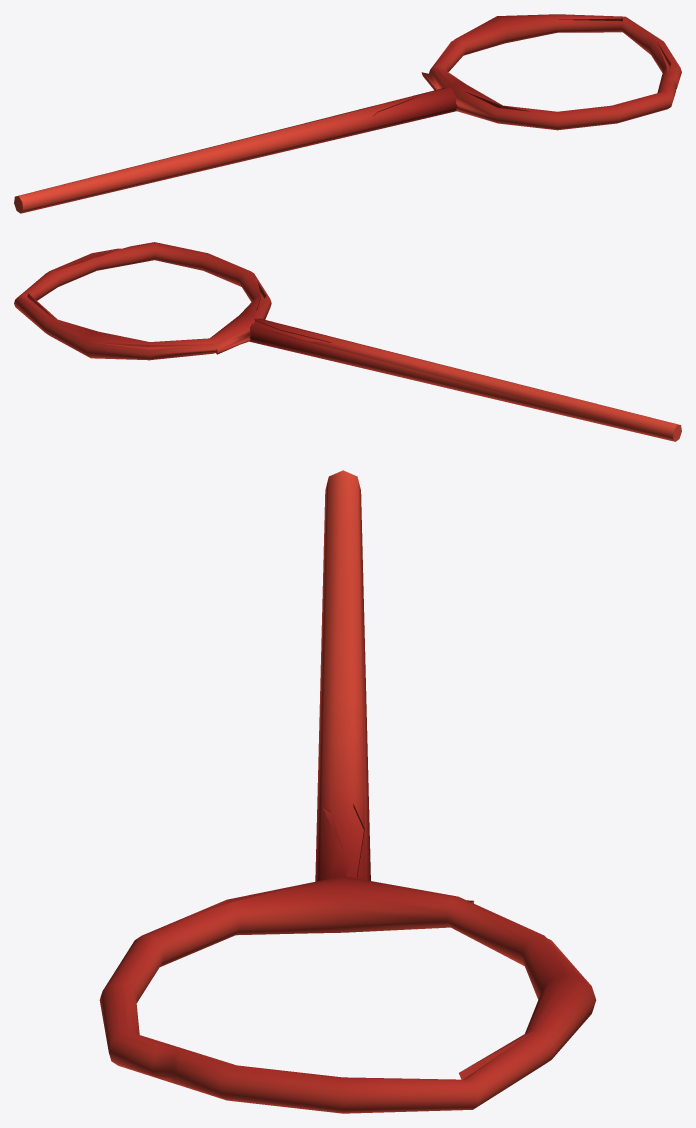
File: ST_Wand_01.fbx
The picture shows the model from 3 angles, top to bottom: view 1: azimuth 30°, elevation 25°; view 2: azimuth 150°, elevation 25°; view 3: azimuth 270°, elevation 25°; orthographic projection. The views are drawn at different scales.
Parts seen in each view (by area): view 1: Wand; view 2: Wand; view 3: Wand.
Part boxes in pixels (x1,y1,x2,y2): Wand: (14, 14, 681, 213); Wand: (14, 242, 681, 441); Wand: (99, 470, 596, 1113).
Bounding box in the file's own units: 1173 × 45.88 × 399.
